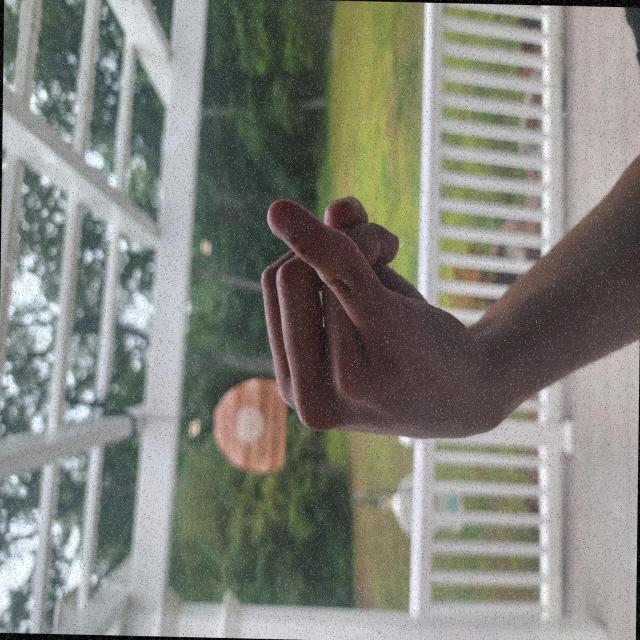I: (142, 334, 340, 640)
